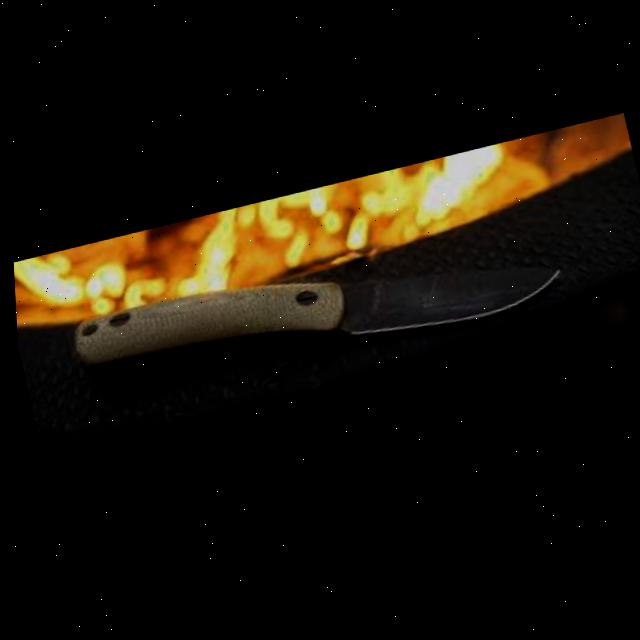knife: (62, 208, 566, 413)
